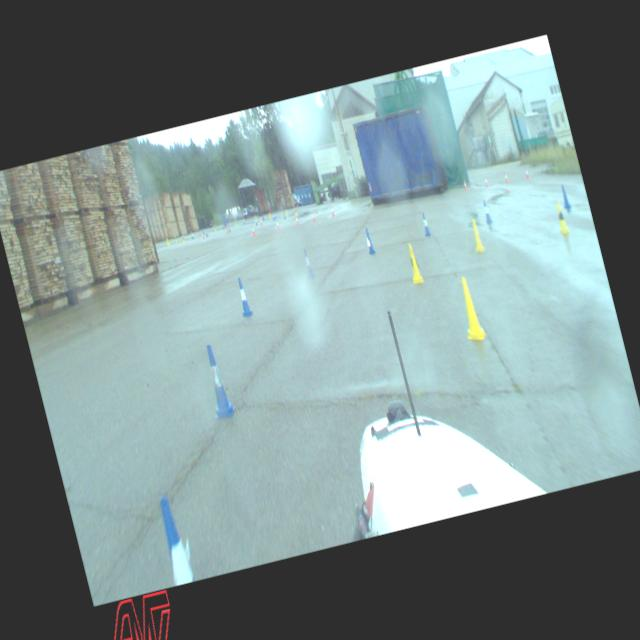blue_cone: (153, 493, 195, 585), (199, 342, 237, 422), (234, 276, 252, 317), (362, 225, 376, 255), (301, 248, 315, 278), (418, 210, 431, 237), (558, 186, 572, 210), (480, 200, 491, 222), (282, 210, 286, 220), (254, 217, 258, 226), (260, 212, 264, 220), (190, 228, 193, 238), (272, 211, 276, 218), (227, 223, 230, 232), (205, 229, 208, 236)
orange_cone: (250, 224, 256, 236), (310, 210, 316, 222), (503, 172, 509, 182), (462, 180, 468, 190), (294, 214, 299, 225), (275, 220, 280, 230), (484, 176, 488, 187), (524, 167, 528, 178), (330, 205, 334, 216), (224, 224, 228, 234), (201, 230, 205, 239), (259, 217, 262, 225)
yellow_cone: (453, 274, 487, 344), (404, 245, 422, 285), (468, 217, 486, 254), (554, 200, 570, 236), (292, 207, 296, 216), (166, 236, 170, 245), (181, 234, 185, 242), (212, 223, 216, 230), (175, 234, 178, 242), (235, 219, 238, 226), (268, 211, 271, 218), (285, 208, 288, 215), (166, 237, 168, 245)
